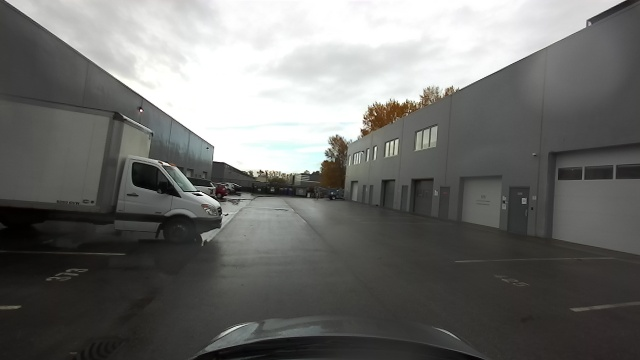car: (2, 98, 229, 244), (189, 178, 215, 195), (214, 180, 228, 199), (225, 182, 238, 195)
